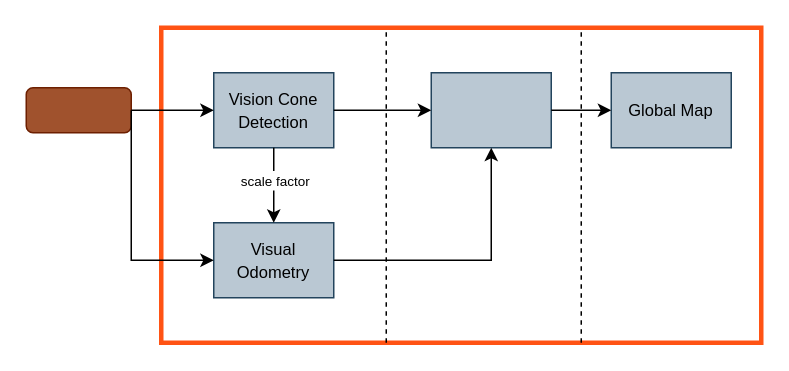
This 789x371 diagram has some shape labels left out. Each missing label, with the centre of its shape:
"Local Map" goes at point 490,109.
"Monocular Camera" goes at point 78,109.
